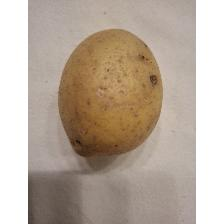Kartoffel: (56, 27, 166, 162)
